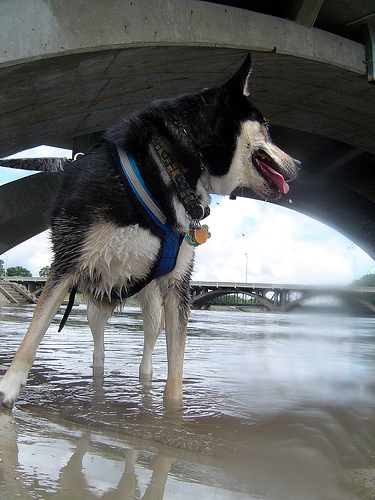dog: (0, 52, 301, 408)
